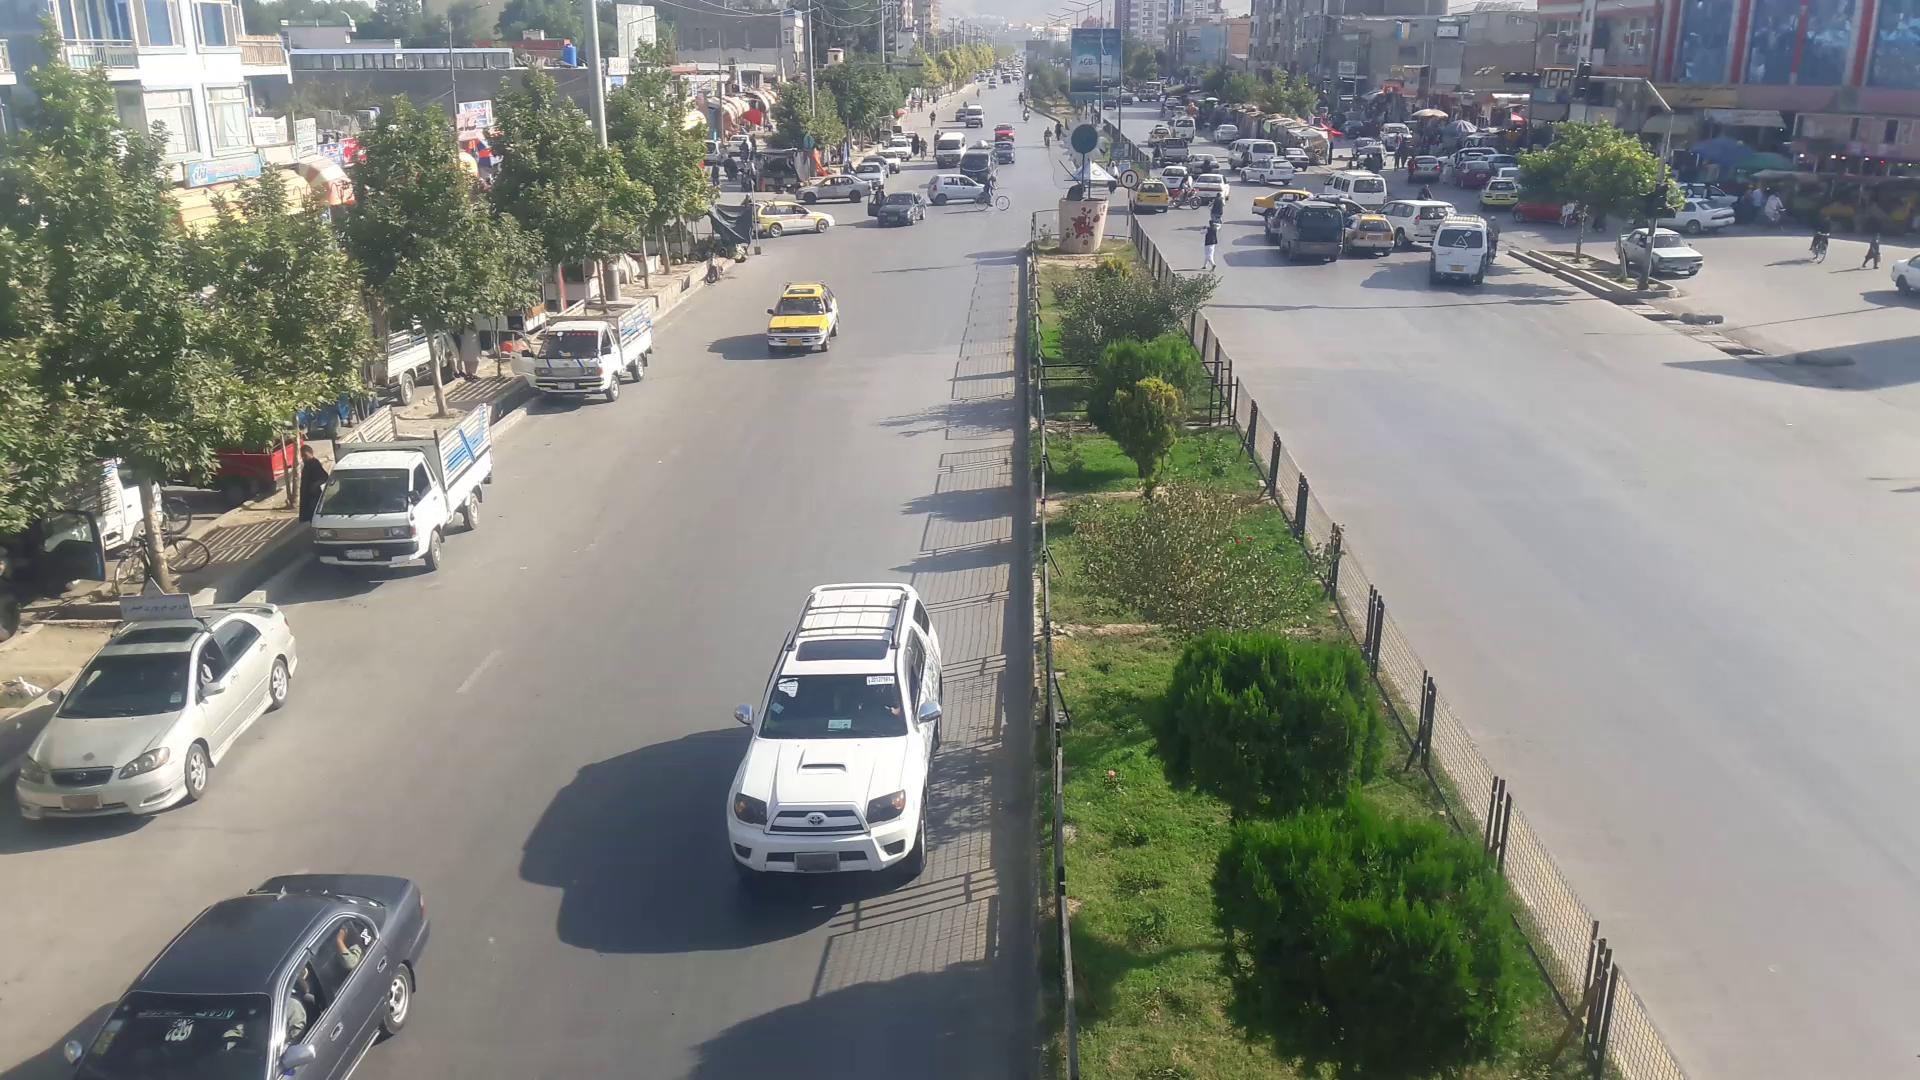bus: (1428, 218, 1495, 281)
car: (97, 867, 433, 1073), (14, 590, 304, 824), (724, 581, 926, 858), (767, 280, 839, 353), (1276, 204, 1355, 265), (1623, 225, 1707, 278), (760, 205, 835, 238), (921, 179, 989, 211), (1486, 175, 1523, 208)
truck: (305, 441, 457, 571), (518, 302, 649, 393), (1321, 176, 1391, 210)
